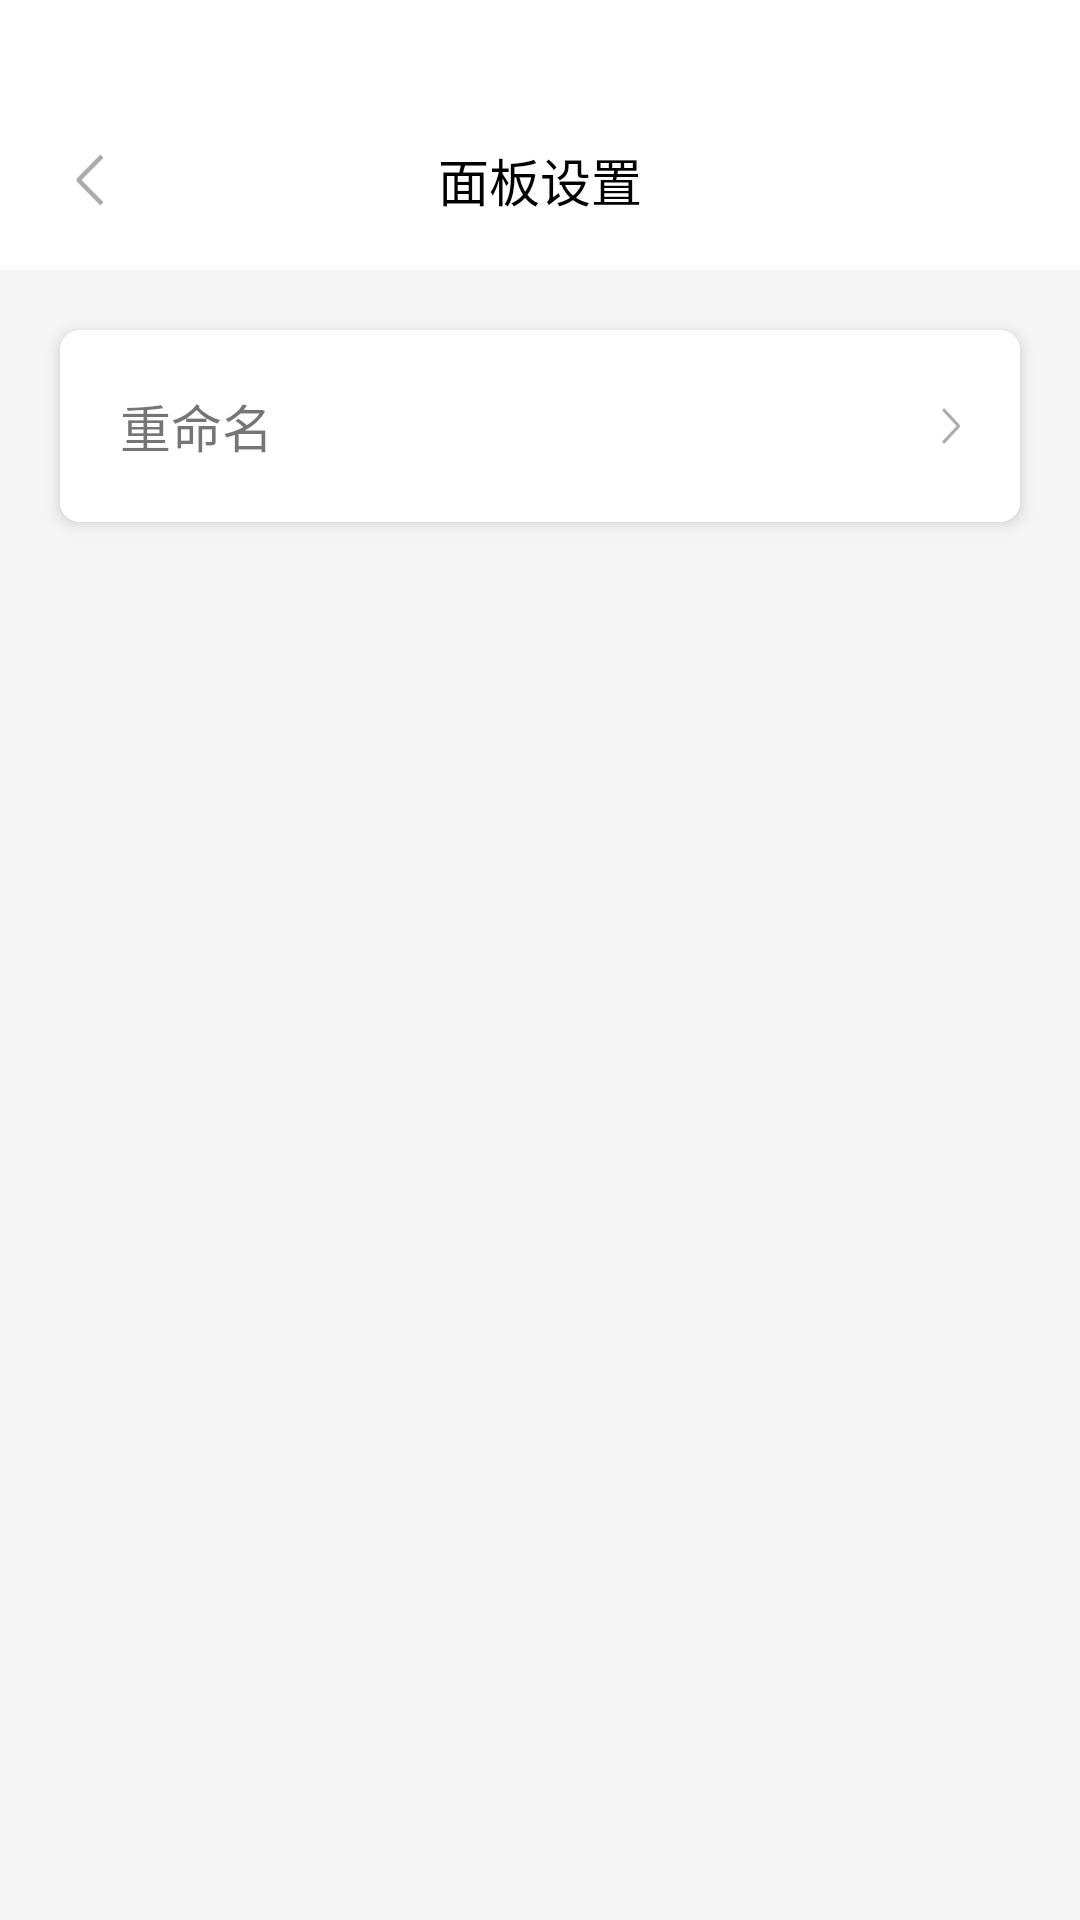

Point at icon controls on the screen. Image size 1080px x 1920px, points as (x,y).
back: (89,180)
